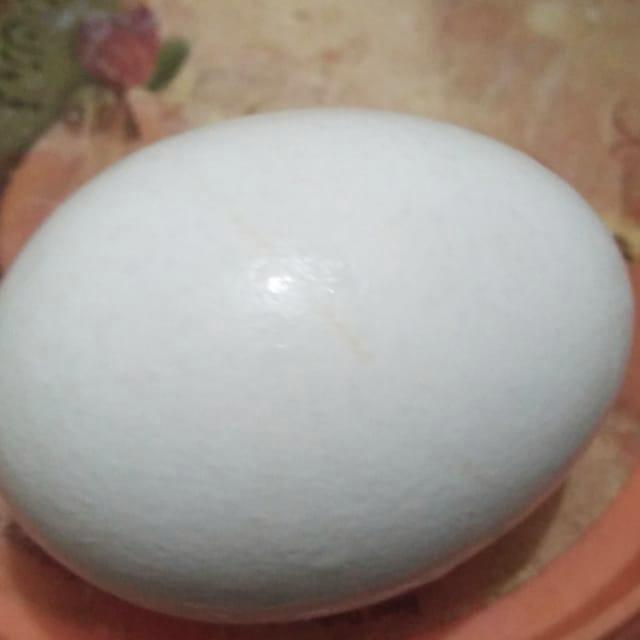egg: (0, 101, 638, 626)
